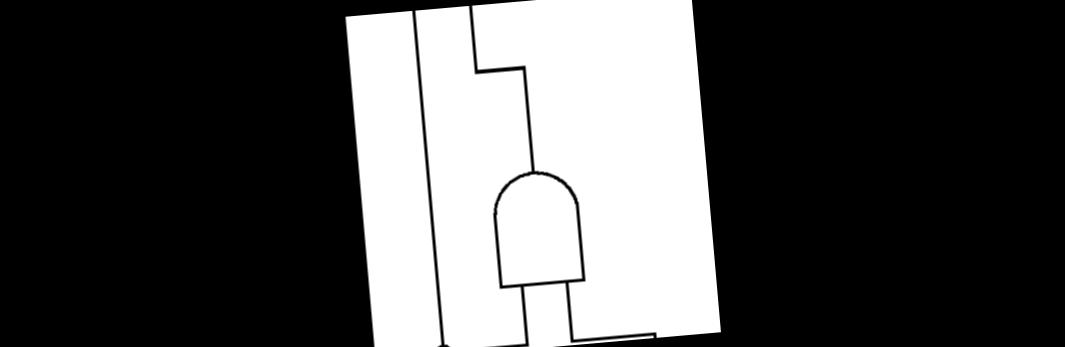and: (480, 160, 588, 295)
